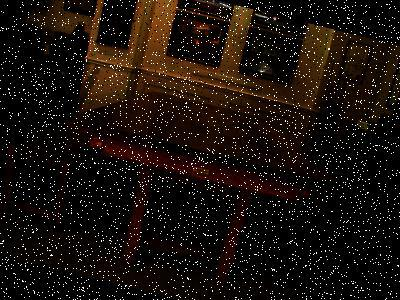Mesa: (32, 68, 351, 299)
Silla: (243, 166, 395, 299), (0, 102, 131, 241)
